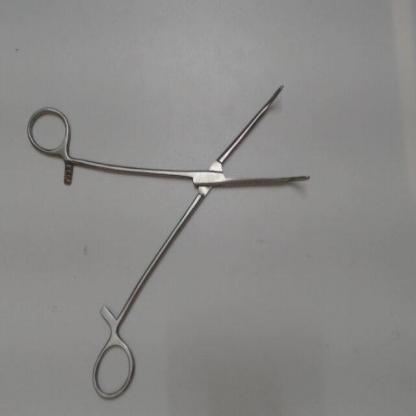Lahey Forceps: (20, 71, 314, 403)
